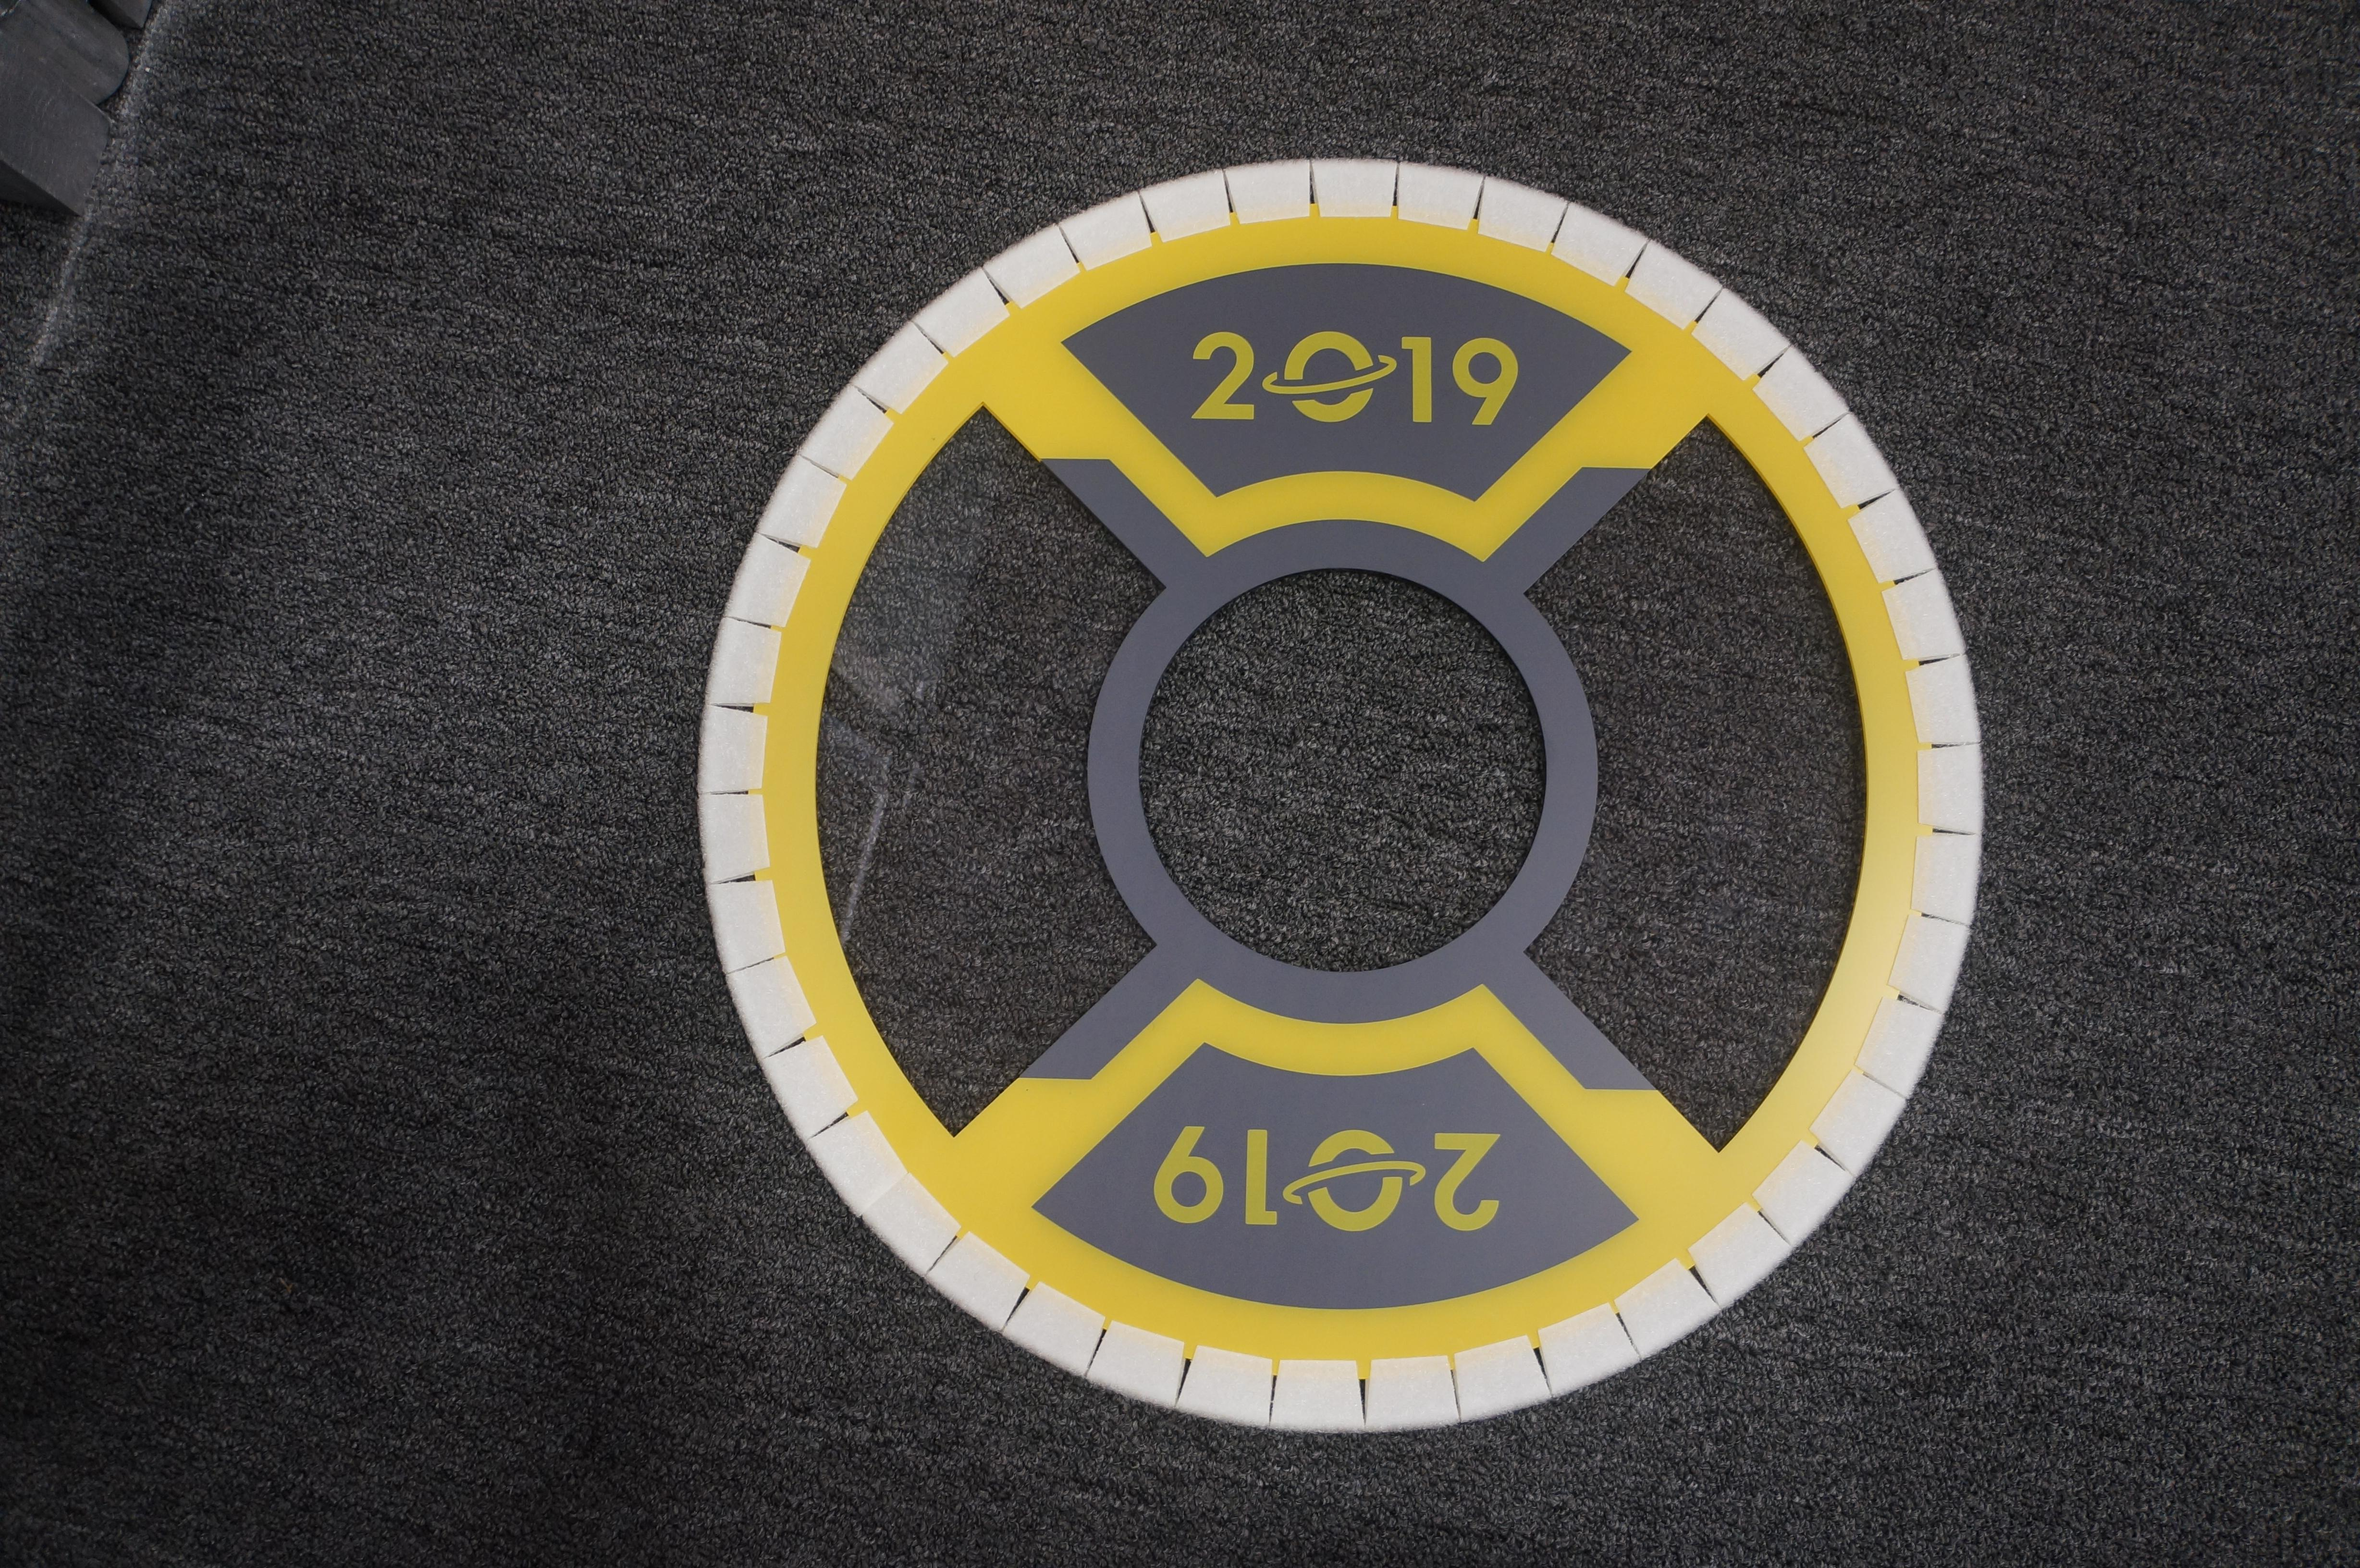Hatch: (691, 149, 1991, 1437)
